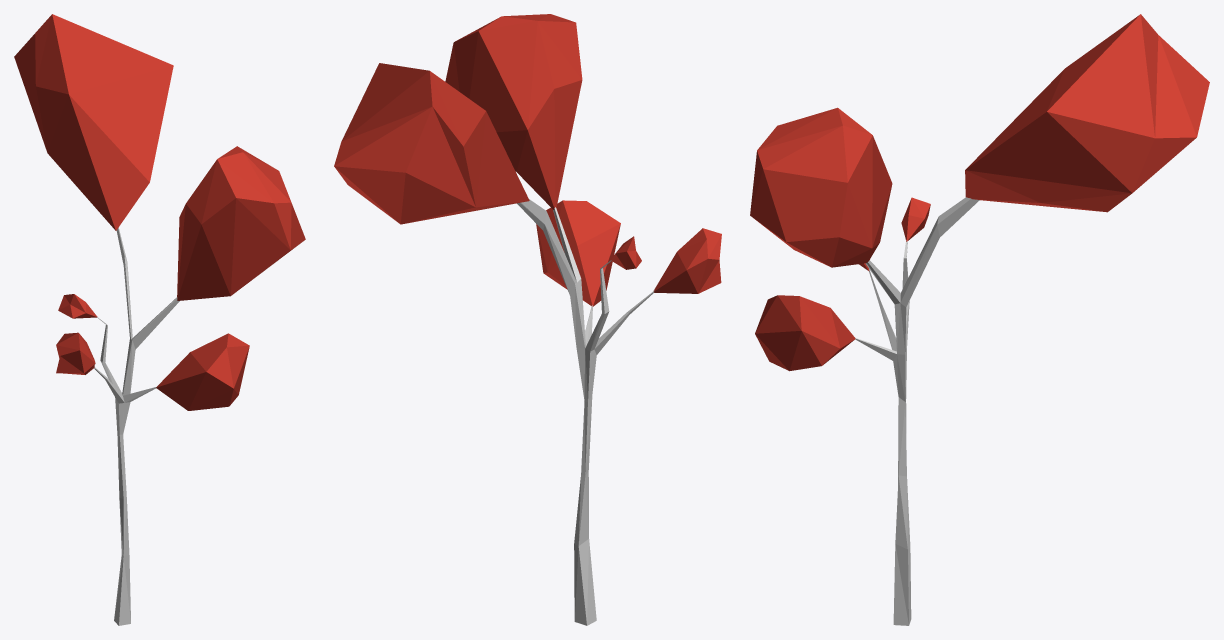
The model's file is world_2_tree_2.dae.
The picture shows the model from 3 angles, left to right: view 1: azimuth 30°, elevation 25°; view 2: azimuth 150°, elevation 25°; view 3: azimuth 270°, elevation 25°; orthographic projection. The views are drawn at different scales.
Visible parts, largest first — view 1: world_2_tree_2_leaves, world_2_tree_2_base; view 2: world_2_tree_2_leaves, world_2_tree_2_base; view 3: world_2_tree_2_leaves, world_2_tree_2_base.
Part boxes in pixels (x1,y1,x2,y2): world_2_tree_2_leaves: (14,14,305,410); world_2_tree_2_base: (94,227,179,625); world_2_tree_2_leaves: (334,14,721,306); world_2_tree_2_base: (517,199,654,625); world_2_tree_2_leaves: (750,14,1209,371); world_2_tree_2_base: (855,197,979,625).
Bounding box in the file's own units: 2.76 × 3.95 × 5.93.
